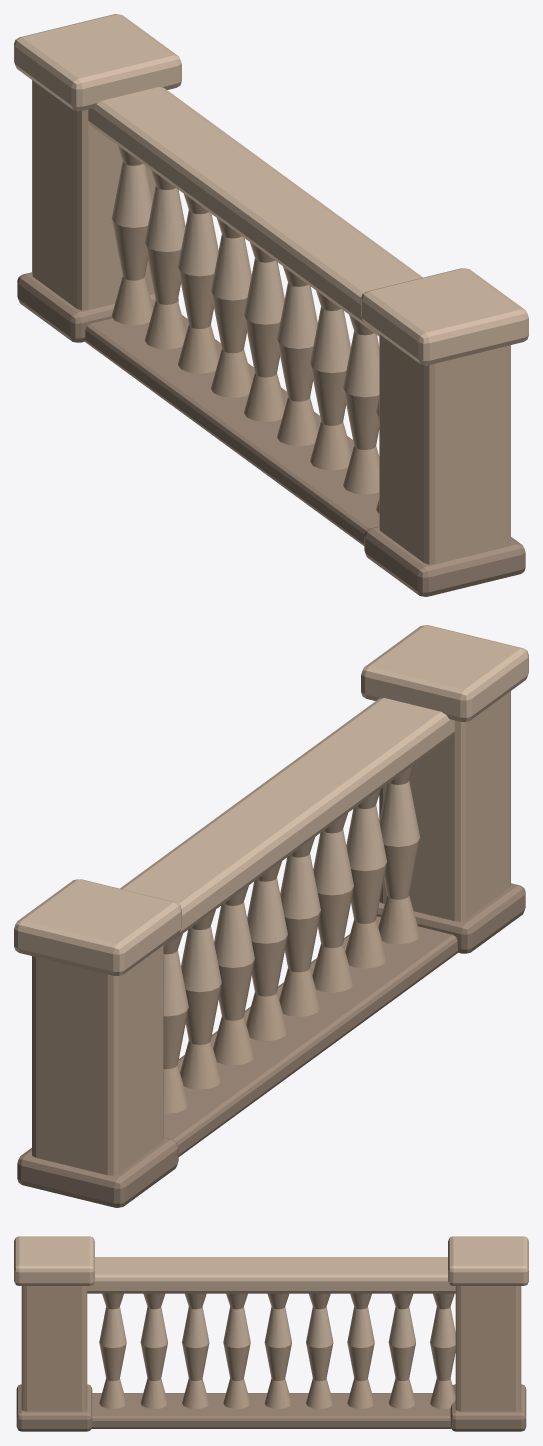
The model's file is SM_Menu_StoneBalustrade.fbx.
3 views of the same model, one above another, from view 1: azimuth 30°, elevation 25°; view 2: azimuth 150°, elevation 25°; view 3: azimuth 270°, elevation 25° (orthographic). The views are drawn at different scales.
Visible parts, largest first — view 1: SM_Menu_StoneBalustrade; view 2: SM_Menu_StoneBalustrade; view 3: SM_Menu_StoneBalustrade.
Part boxes in pixels (box(x1,y1,x2,y2)): SM_Menu_StoneBalustrade: box(14, 14, 528, 596); SM_Menu_StoneBalustrade: box(14, 625, 528, 1207); SM_Menu_StoneBalustrade: box(14, 1236, 528, 1431).
Size of the model in its own units: 46 by 299 by 106.
